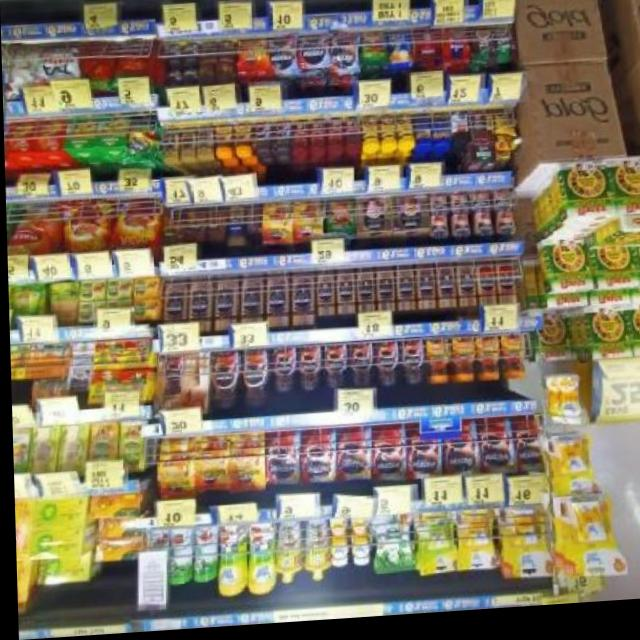Coffee: (155, 440, 191, 501), (226, 436, 262, 494), (475, 423, 511, 481), (405, 427, 441, 483), (192, 437, 227, 494), (440, 426, 475, 481), (262, 435, 297, 488), (297, 433, 332, 485), (510, 421, 541, 479), (239, 351, 269, 409), (335, 433, 369, 483), (209, 355, 238, 412), (371, 431, 402, 483), (212, 277, 238, 333), (162, 280, 187, 335), (288, 276, 313, 329), (262, 206, 293, 247), (265, 276, 288, 331), (189, 279, 212, 334), (293, 206, 324, 246), (238, 277, 263, 326), (449, 343, 474, 388), (374, 348, 399, 393), (348, 348, 373, 393), (321, 349, 346, 394), (329, 38, 359, 75), (500, 342, 525, 386), (423, 346, 448, 390), (296, 350, 321, 394), (398, 346, 421, 392), (297, 39, 328, 72), (476, 342, 499, 386), (271, 351, 294, 395), (268, 41, 296, 76), (239, 43, 267, 78), (433, 267, 454, 313), (414, 268, 433, 315), (334, 272, 353, 318), (455, 267, 474, 312), (394, 271, 413, 316), (355, 272, 374, 317), (315, 274, 333, 319), (375, 271, 393, 316), (213, 127, 233, 156), (272, 123, 290, 152), (253, 126, 270, 156), (233, 126, 250, 155), (163, 131, 178, 162), (196, 128, 212, 156), (180, 131, 195, 160), (166, 72, 181, 88), (164, 46, 179, 62), (182, 46, 198, 61), (183, 70, 196, 84)
